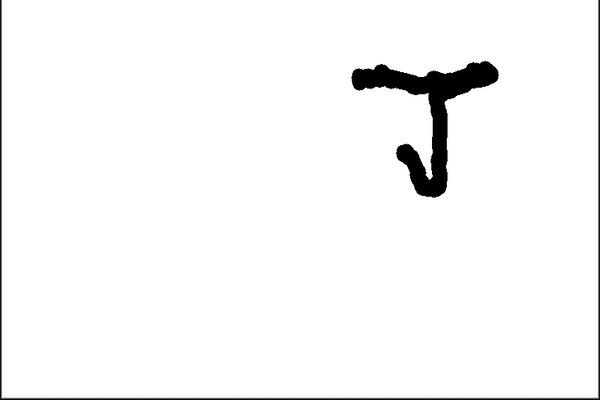J: (349, 52, 503, 199)
